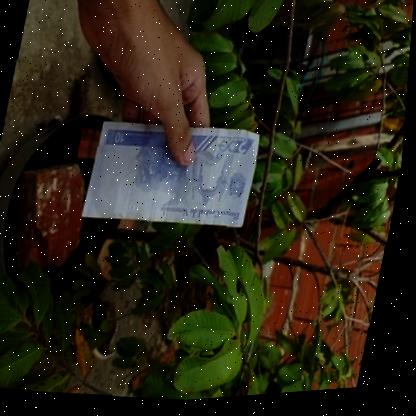ten-back-vef: (83, 112, 265, 240)
